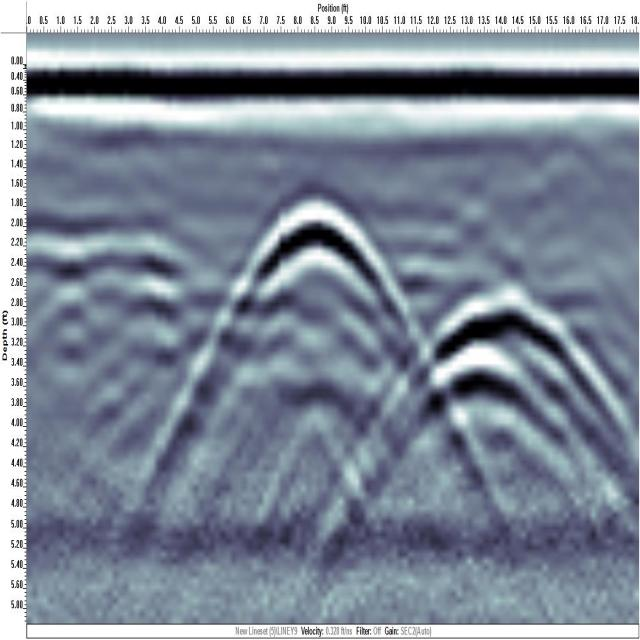hyperbola: (418, 270, 634, 478), (220, 175, 416, 335)
